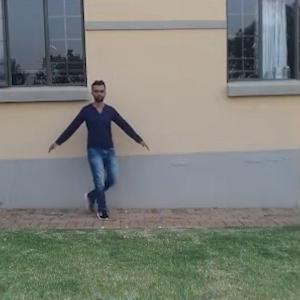land: (49, 82, 144, 227)
